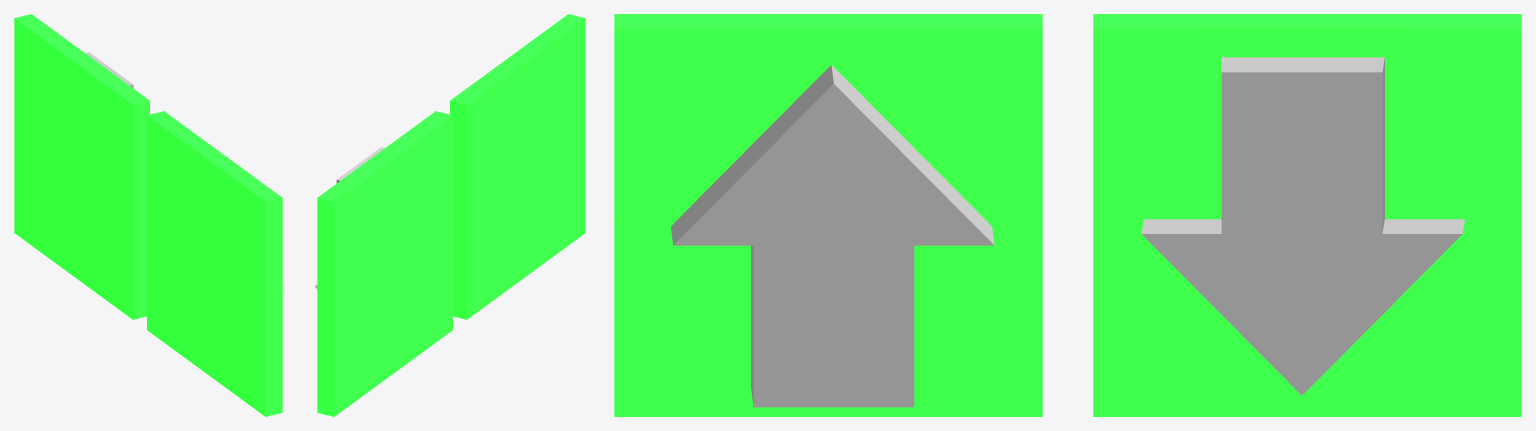
The model's file is arrows.fbx.
3 renders of one model, left to right at view 1: azimuth 30°, elevation 25°; view 2: azimuth 150°, elevation 25°; view 3: azimuth 270°, elevation 25°, orthographic. The views are drawn at different scales.
Visible parts, largest first — view 1: Arrow_up, Arrow_down; view 2: Arrow_down, Arrow_up; view 3: Arrow_up, Arrow_down.
Boxes of the visible parts, x1,y1,x2,y2 form: Arrow_up: (147,111,285,416); Arrow_down: (14,14,149,319); Arrow_down: (314,111,452,416); Arrow_up: (450,14,585,319); Arrow_up: (614,14,1042,416); Arrow_down: (1093,14,1521,416).
Bounding box in the file's own units: 9.98 × 56.66 × 120.
